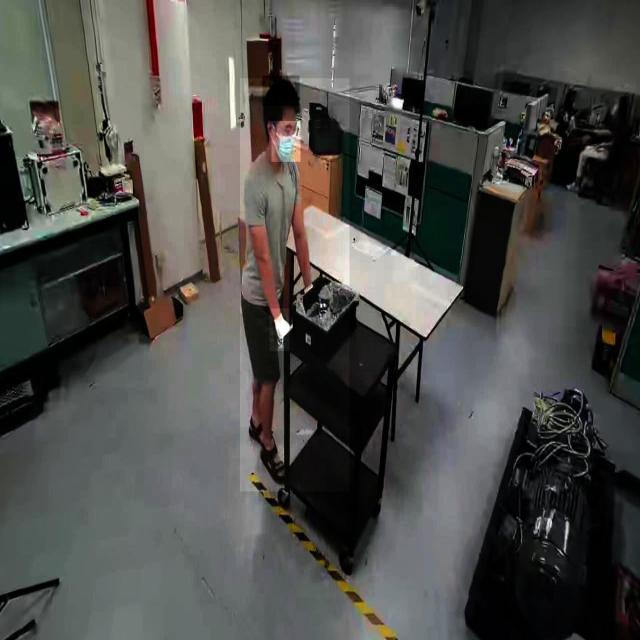face_mask: (272, 121, 300, 162)
hand_glove: (270, 308, 290, 352)
head_nohelmet: (262, 76, 300, 106)
person: (240, 79, 350, 492)
